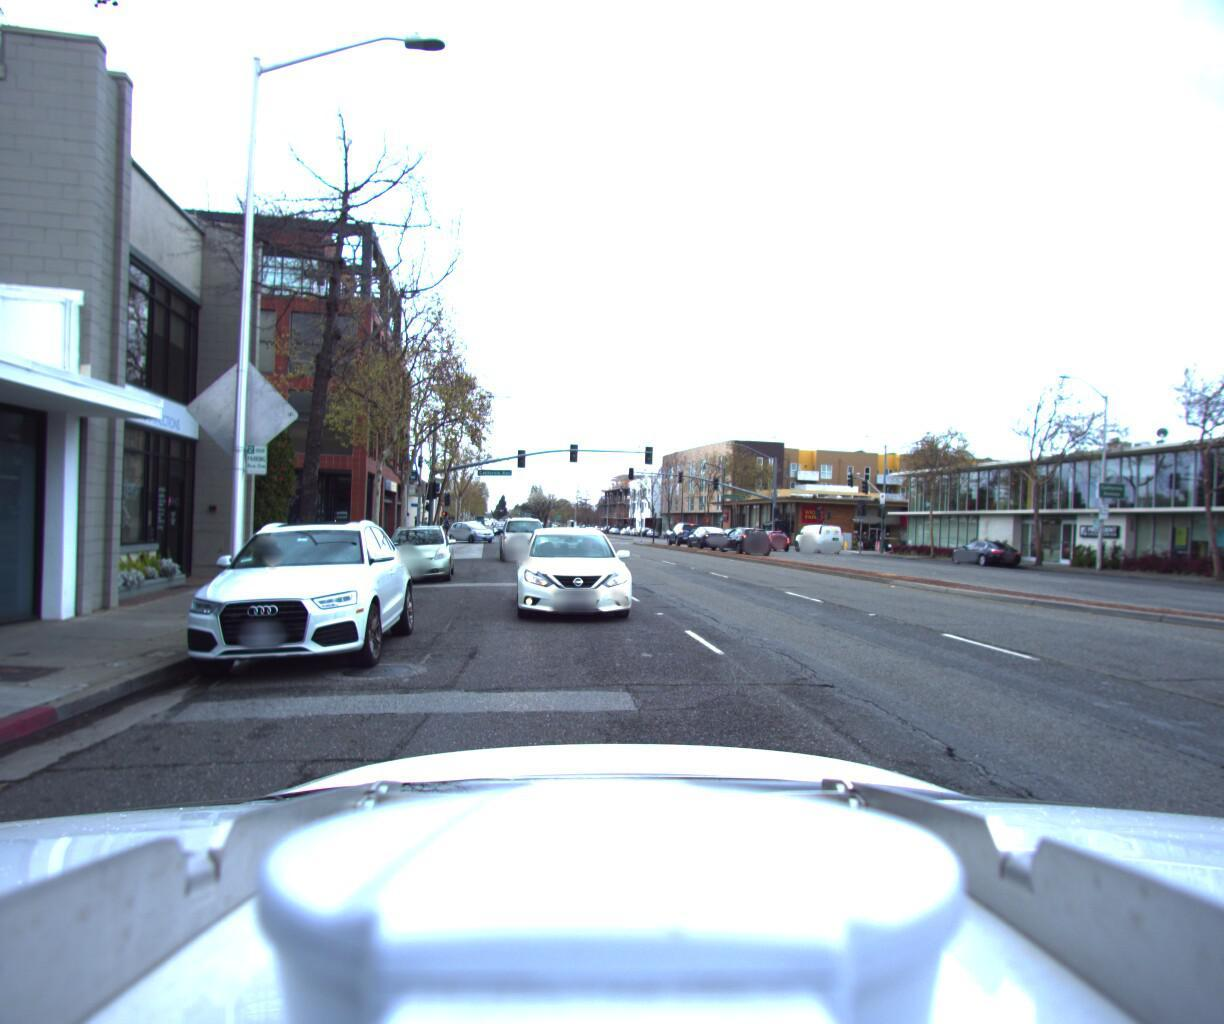car: (159, 503, 418, 691), (508, 529, 635, 629), (380, 525, 456, 591), (942, 544, 1023, 580), (494, 523, 547, 573), (711, 532, 773, 566), (793, 528, 845, 558), (443, 527, 499, 551), (684, 530, 734, 556), (664, 526, 707, 556), (752, 535, 794, 557)
